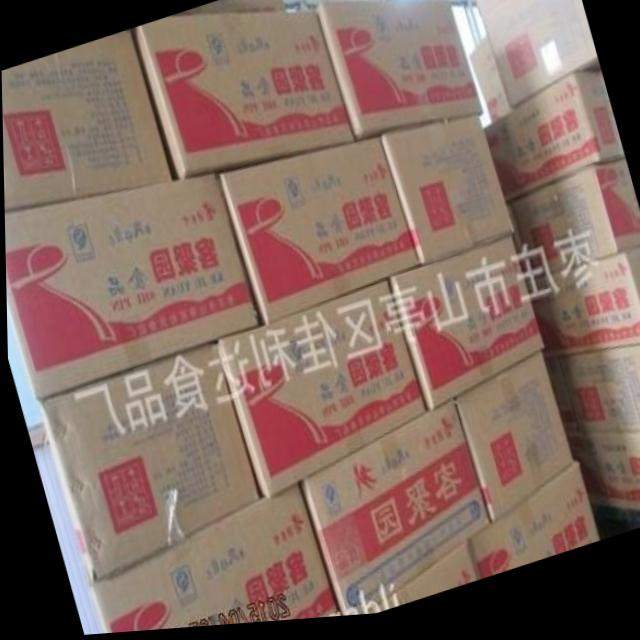box: (4, 176, 257, 402), (39, 344, 260, 586), (217, 286, 426, 502), (299, 405, 487, 621), (217, 141, 421, 325), (86, 487, 336, 635), (132, 16, 352, 181), (1, 32, 174, 216), (388, 242, 542, 416), (314, 7, 482, 143), (453, 360, 571, 528), (380, 121, 513, 268), (482, 79, 624, 208), (507, 165, 640, 287), (473, 0, 601, 116), (466, 473, 598, 584), (526, 257, 640, 365), (361, 546, 477, 620), (543, 355, 640, 439), (562, 436, 640, 518), (468, 42, 508, 128), (178, 0, 285, 18)
